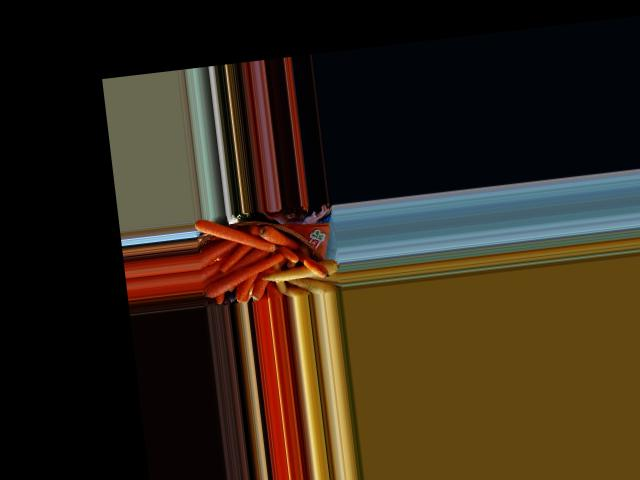carrot: (260, 218, 306, 252)
